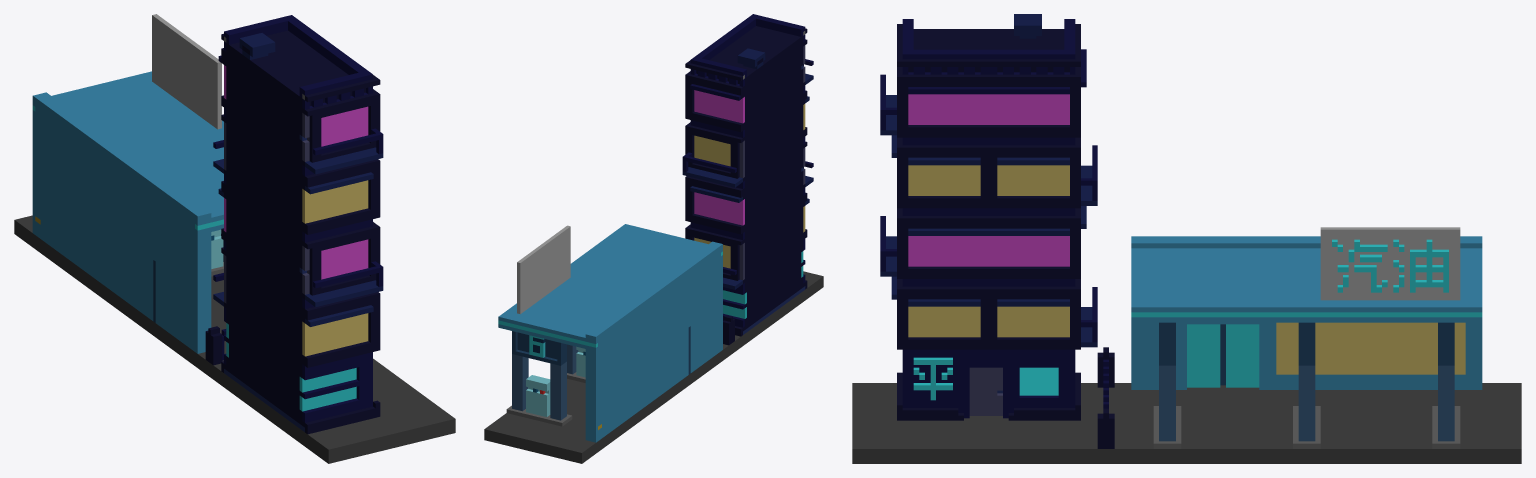
File: SM_Environment_Street6.fbx
3 renders of one model, left to right at view 1: azimuth 30°, elevation 25°; view 2: azimuth 150°, elevation 25°; view 3: azimuth 270°, elevation 25°, orthographic. The views are drawn at different scales.
Visible parts, largest first — view 1: Street6; view 2: Street6; view 3: Street6.
Part boxes in pixels (bbox=[...]): Street6: bbox=[14, 14, 455, 463]; Street6: bbox=[484, 14, 823, 463]; Street6: bbox=[852, 14, 1521, 463].
Size of the model in its own units: 560 by 1520 by 2400.
4 materials, 1 textured.
